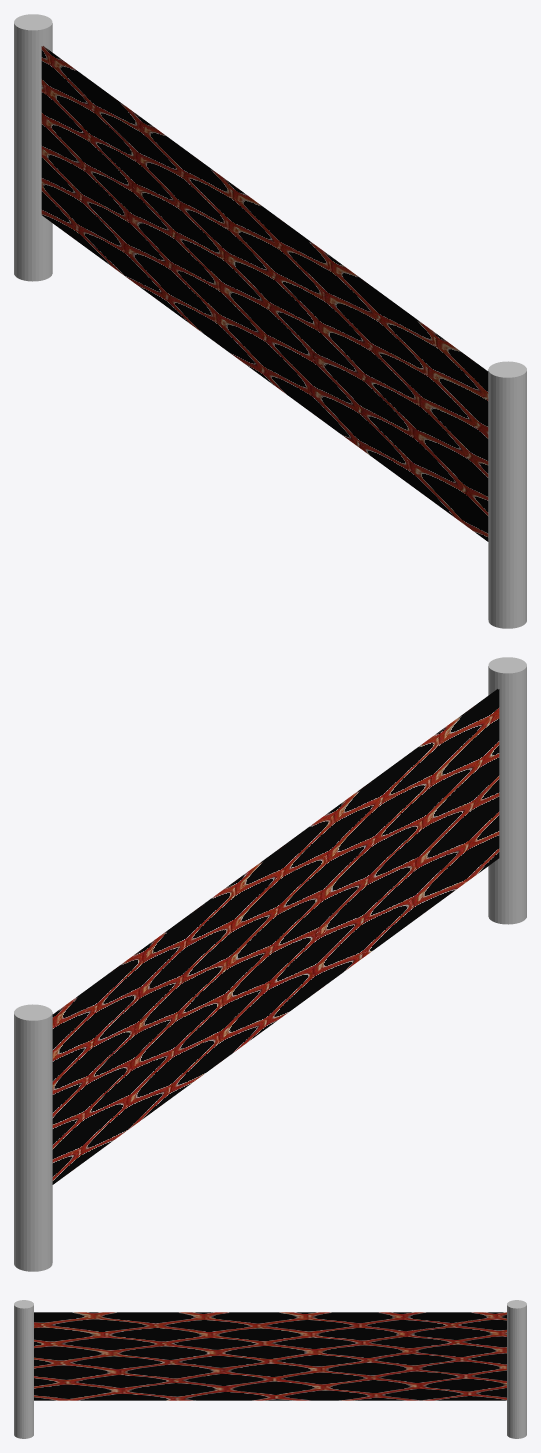
The model's file is barrier.fbx.
3 views of the same model, one above another, from view 1: azimuth 30°, elevation 25°; view 2: azimuth 150°, elevation 25°; view 3: azimuth 270°, elevation 25° (orthographic). The views are drawn at different scales.
Visible parts, largest first — view 1: barrier, Cube; view 2: barrier, Cube; view 3: barrier, Cube.
Part boxes in pixels (x1,y1,x2,y2): barrier: (41,46,488,541); Cube: (14,14,526,628); barrier: (52,689,499,1184); Cube: (14,657,526,1271); barrier: (34,1312,506,1400); Cube: (14,1300,526,1438).
Bounding box in the file's own units: 5.04 × 36.19 × 129.
